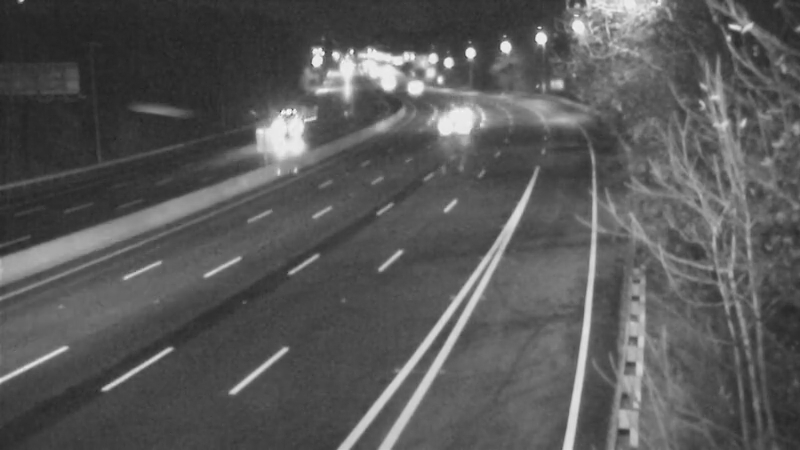vehicle: (384, 61, 434, 111), (435, 88, 485, 138), (420, 102, 470, 152), (267, 103, 317, 153)
